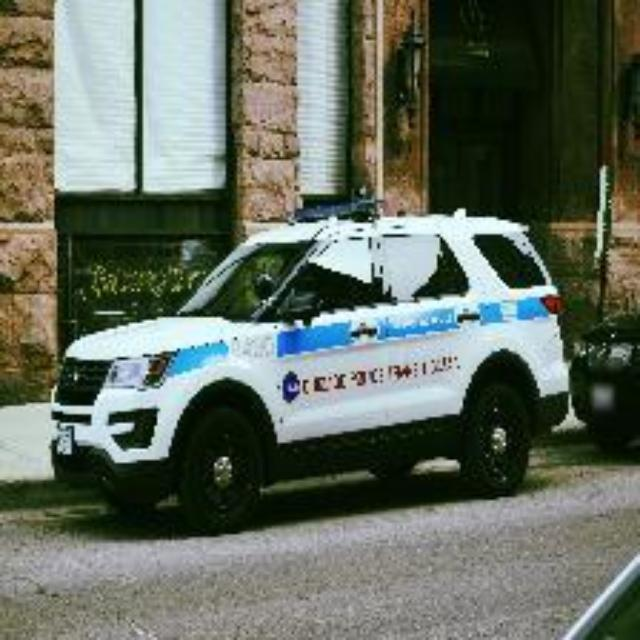emergency: (32, 203, 570, 523)
